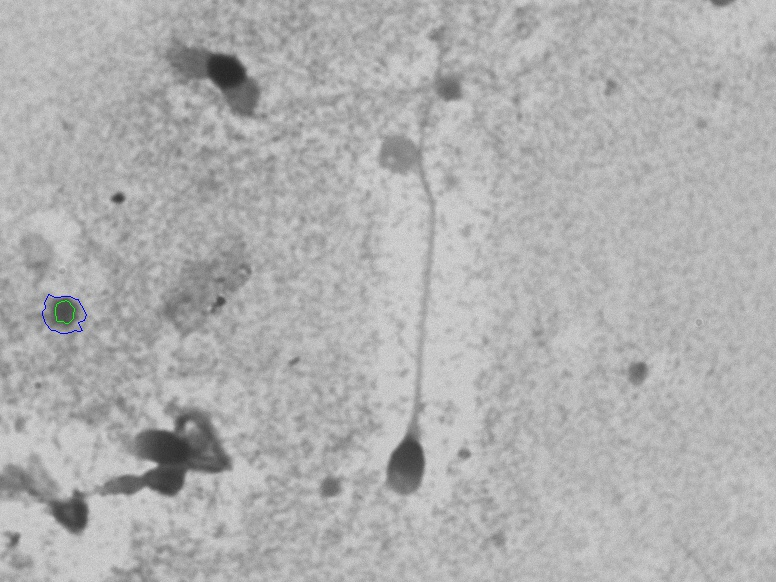Abnormal: (145, 33, 305, 193), (98, 379, 243, 492)
Normal: (355, 36, 482, 551)
